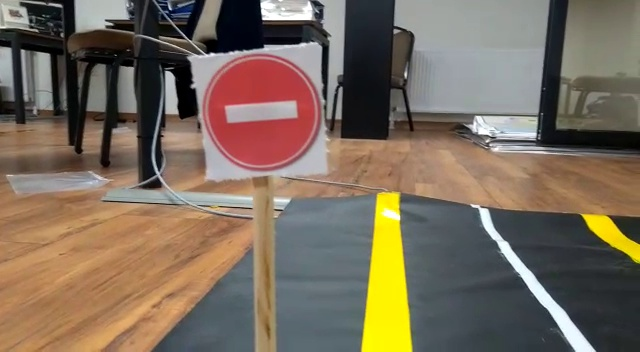girisi_olmayan_yol: (193, 55, 325, 176)
